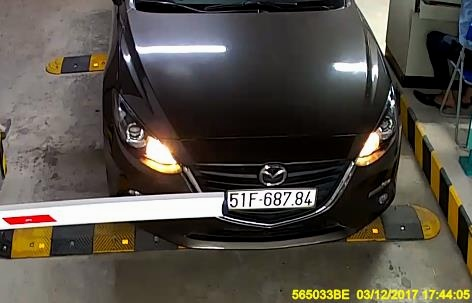plate: (222, 181, 314, 213)
